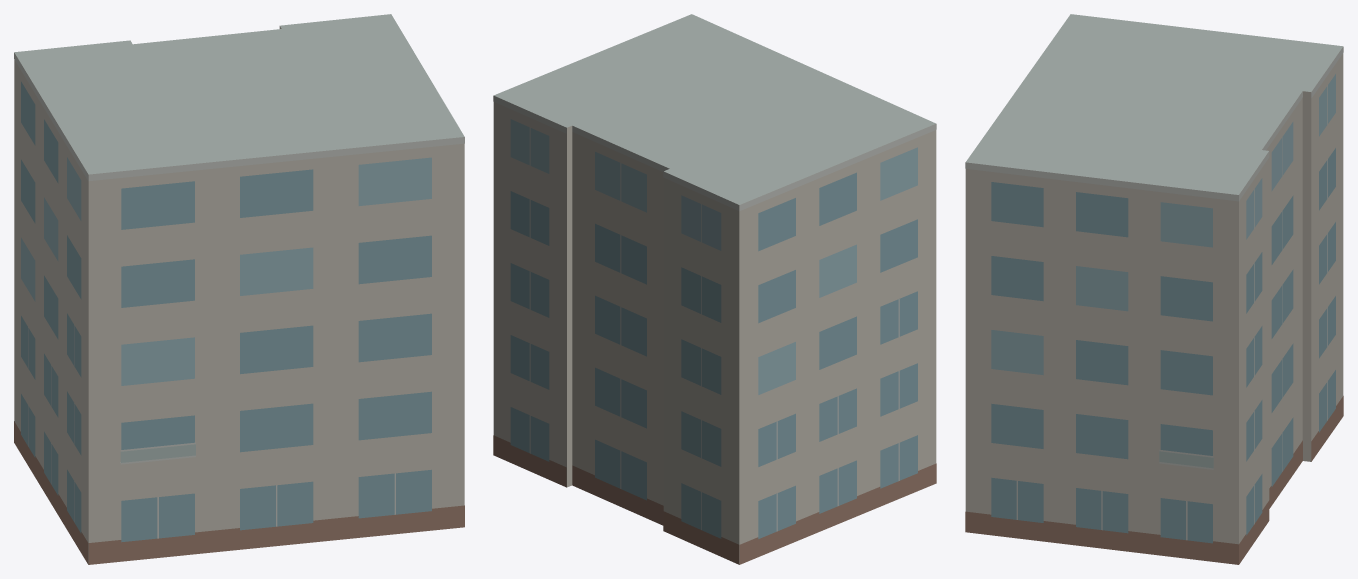
File: survey-upis-32948632.glb
The picture shows the model from 3 angles, left to right: view 1: azimuth 30°, elevation 25°; view 2: azimuth 150°, elevation 25°; view 3: azimuth 270°, elevation 25°; orthographic projection. The views are drawn at different scales.
Visible parts, largest first — view 1: survey-upis-32948632.tmp; view 2: survey-upis-32948632.tmp; view 3: survey-upis-32948632.tmp.
Boxes of the visible parts, x1,y1,x2,y2 form: survey-upis-32948632.tmp: (14,14,464,564); survey-upis-32948632.tmp: (493,14,936,564); survey-upis-32948632.tmp: (965,14,1343,564).
Size of the model in its own units: 14.92 by 14.2 by 13.17.
